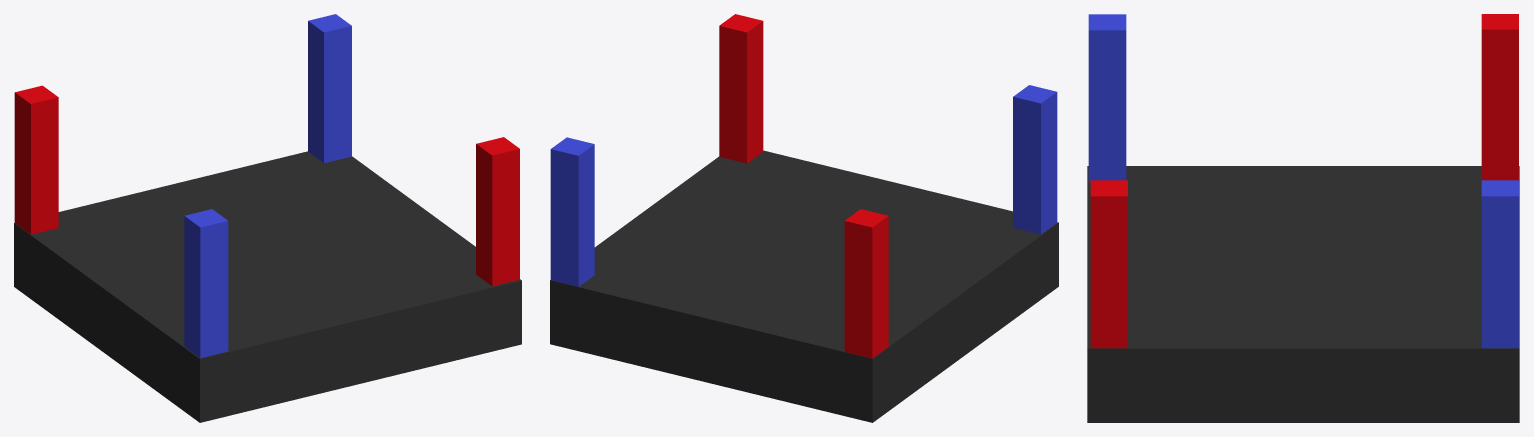
3 renders of one model, left to right at view 1: azimuth 30°, elevation 25°; view 2: azimuth 150°, elevation 25°; view 3: azimuth 270°, elevation 25°, orthographic. The views are drawn at different scales.
Parts seen in each view (by area): view 1: Cube, Cube.001, Cube.003, Cube.002, Cube.004; view 2: Cube, Cube.001, Cube.002, Cube.003, Cube.004; view 3: Cube, Cube.003, Cube.002, Cube.004, Cube.001.
Part boxes in pixels (box(x1,y1,x2,y2)): Cube: box(14, 151, 521, 422); Cube.001: box(14, 85, 58, 234); Cube.003: box(184, 209, 228, 358); Cube.002: box(308, 14, 351, 163); Cube.004: box(476, 137, 519, 286); Cube: box(550, 150, 1058, 422); Cube.001: box(844, 209, 888, 358); Cube.002: box(550, 137, 594, 286); Cube.003: box(1013, 85, 1057, 234); Cube.004: box(719, 14, 763, 163); Cube: box(1087, 166, 1519, 422); Cube.003: box(1088, 14, 1126, 182); Cube.002: box(1481, 180, 1518, 348); Cube.004: box(1090, 180, 1127, 348); Cube.001: box(1481, 14, 1518, 180).
Bounding box in the file's own units: 10.29 × 5.94 × 10.29.
